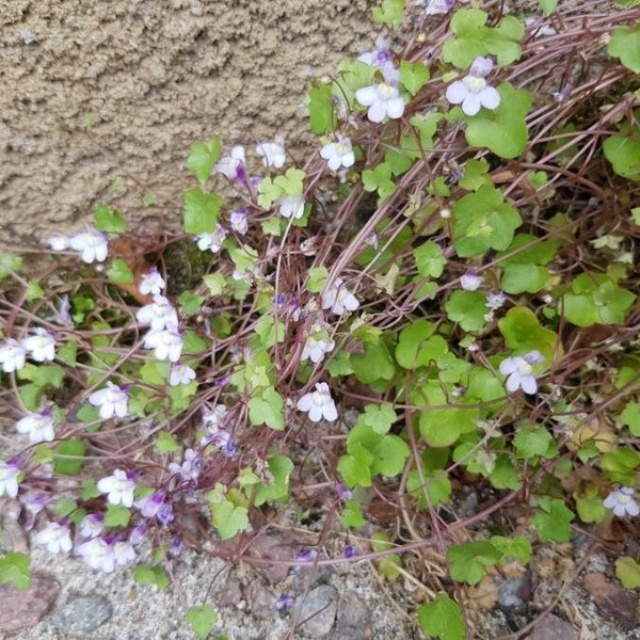obstacle: (46, 160, 634, 535)
